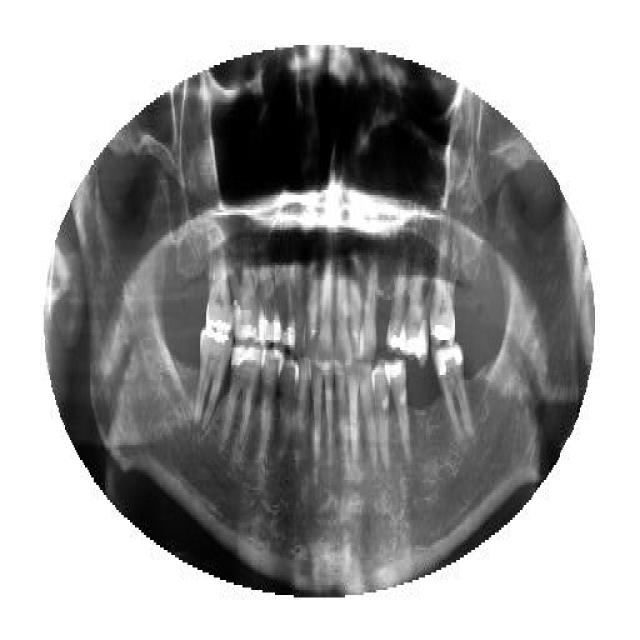Fillings: (431, 340, 471, 442), (194, 325, 231, 435), (226, 343, 262, 455), (255, 230, 284, 348), (430, 232, 456, 340), (202, 248, 232, 332), (385, 355, 410, 450), (405, 265, 426, 363), (385, 265, 401, 355)
